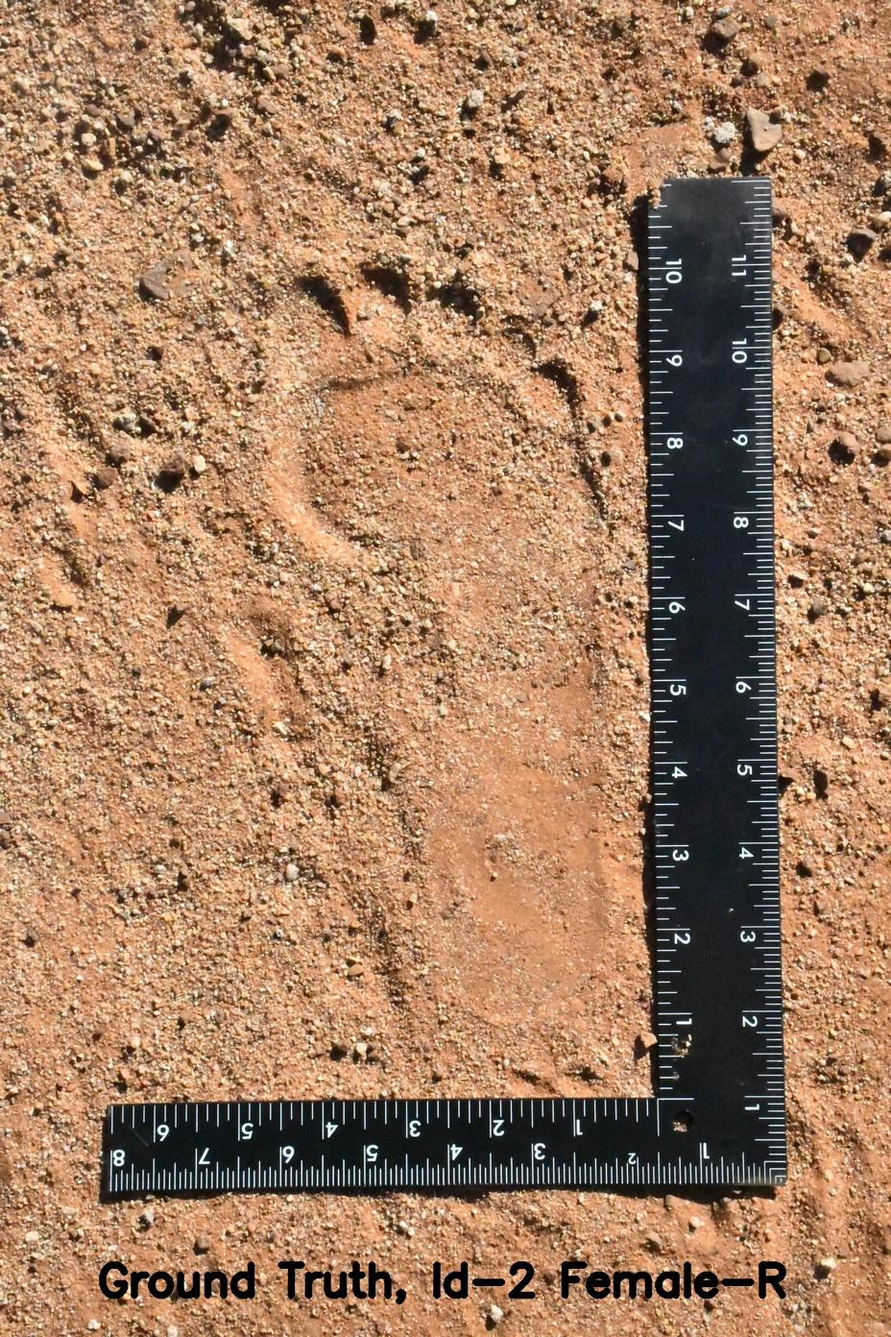human_footprint: (231, 254, 634, 1082)
